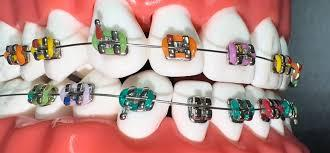Braces: (5, 29, 306, 123)
